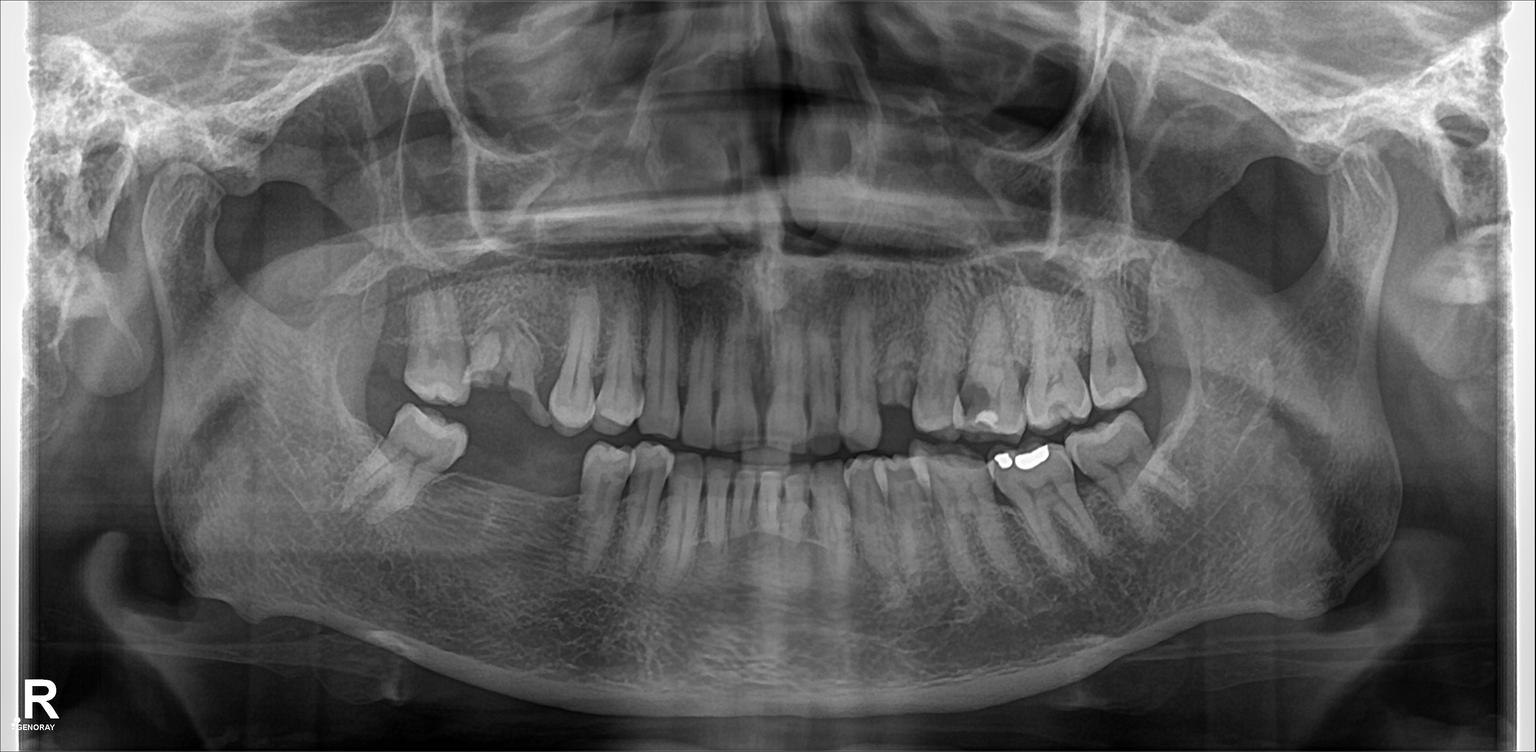Dental Caries: (955, 376, 992, 417)
Missing Tooth: (1134, 283, 1196, 390), (471, 441, 526, 560), (359, 255, 408, 372), (529, 439, 574, 557), (335, 382, 381, 480)
Retained Root: (460, 292, 553, 425), (886, 316, 919, 429)
